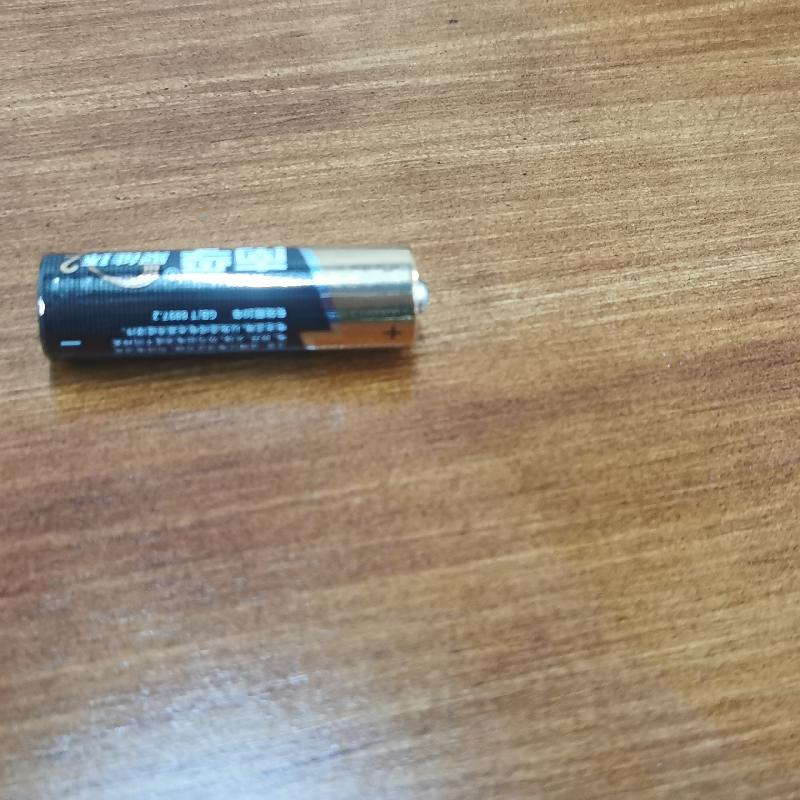battery: (37, 237, 426, 367)
